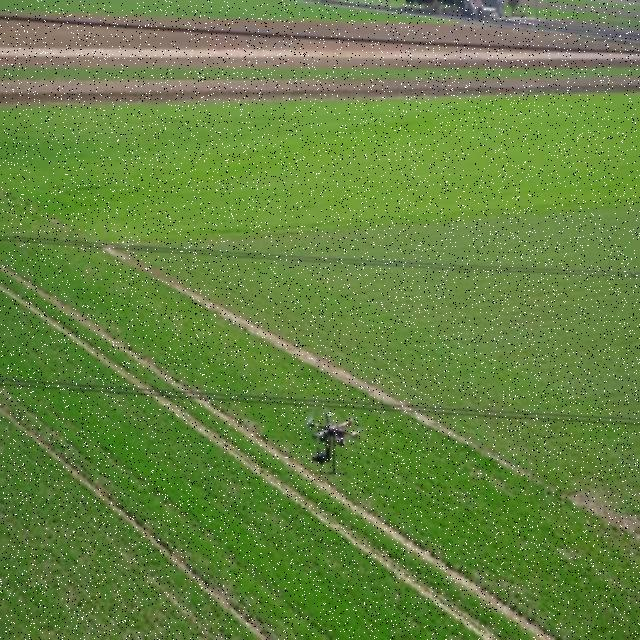UAV: (308, 412, 366, 474)
